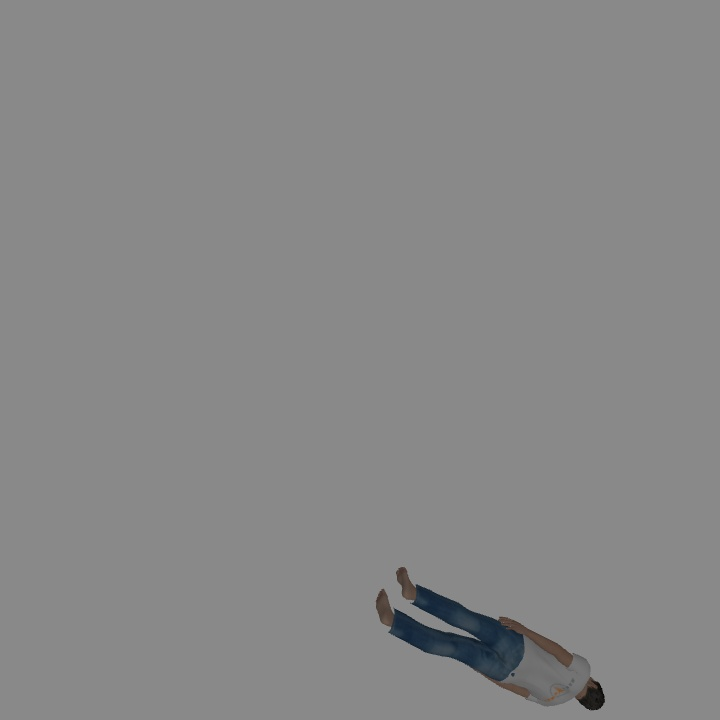victim: (381, 567, 606, 713)
